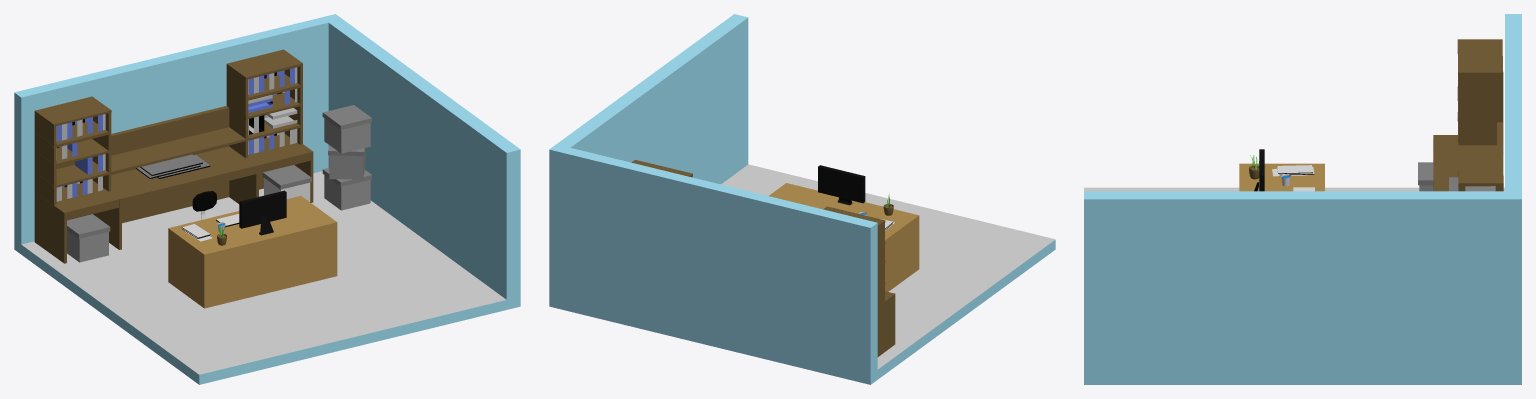
The model's file is intro.fbx.
3 renders of one model, left to right at view 1: azimuth 30°, elevation 25°; view 2: azimuth 150°, elevation 25°; view 3: azimuth 270°, elevation 25°, orthographic. The views are drawn at different scales.
Parts seen in each view (by area): view 1: Cube, Cube.001, Cube.003, Cube.006, Cube.012, Cube.008, Cube.002, Cube.010, Cube.009, Cube.011, Cube.013, Cube.005; view 2: Cube, Cube.003, Cube.001, Cube.002; view 3: Cube, Cube.001, Cube.003, Cube.008, Cube.014.
Boxes of the visible parts, x1,y1,x2,y2 form: Cube: (14,14,520,384); Cube.001: (34,49,313,263); Cube.003: (168,196,337,308); Cube.006: (56,67,297,201); Cube.012: (322,105,371,153); Cube.008: (67,214,110,262); Cube.002: (239,190,286,235); Cube.010: (322,168,371,210); Cube.009: (262,165,311,201); Cube.011: (328,145,365,179); Cube.013: (136,154,210,178); Cube.005: (192,191,216,219); Cube: (549,14,1055,384); Cube.003: (769,183,919,291); Cube.001: (631,160,895,356); Cube.002: (818,165,865,205); Cube: (1084,14,1521,384); Cube.001: (1433,39,1503,191); Cube.003: (1239,163,1324,191); Cube.008: (1418,162,1433,191); Cube.014: (1272,165,1314,176).
Bounding box in the file's own units: 2191 × 1023 × 2186.
